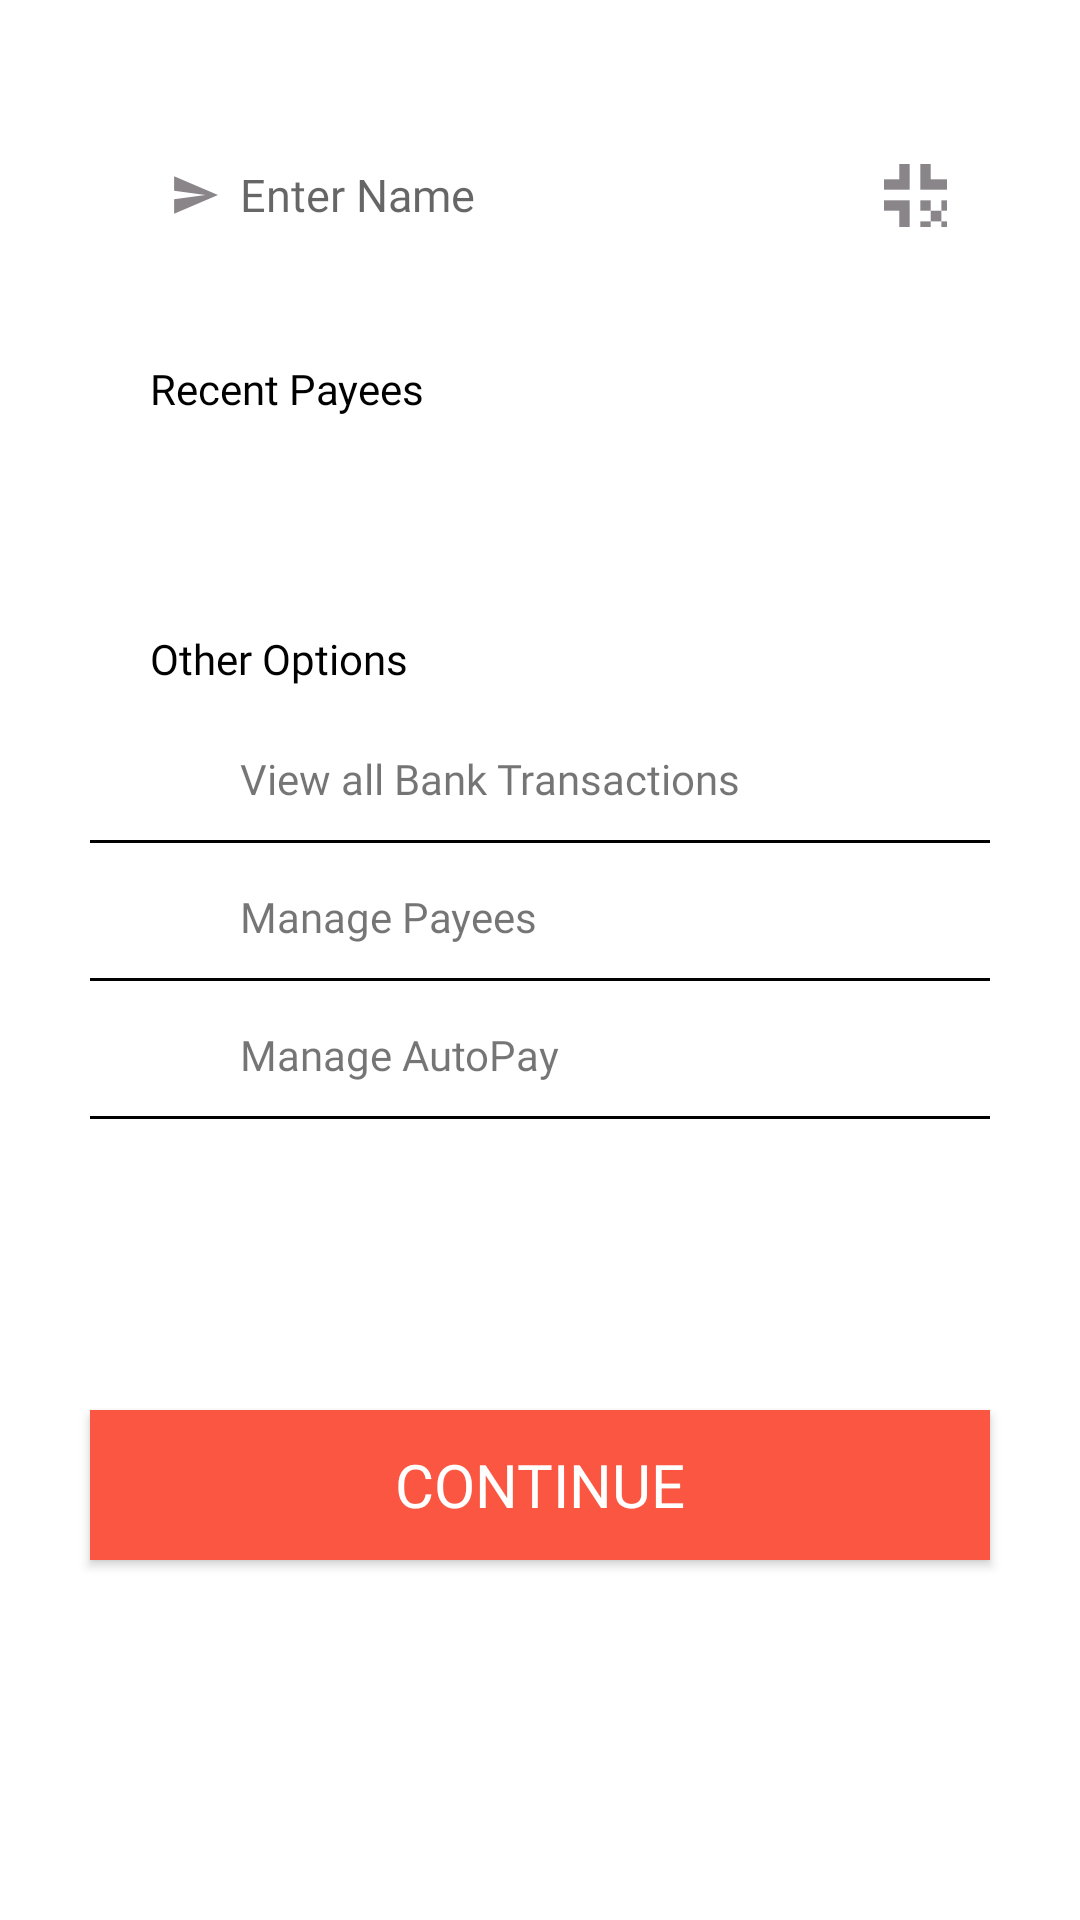

Named icons in this screenshot (1080px x 1920px) and their centers, [x,y]:
send money: [195,195]
